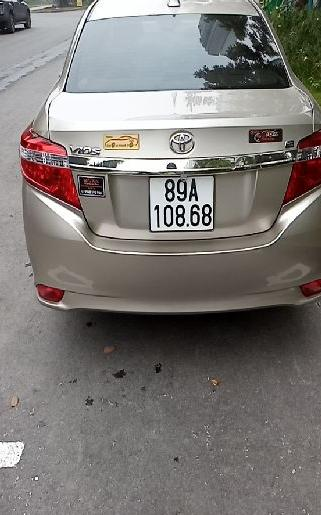Plate-iWeP: (150, 177, 214, 230)
